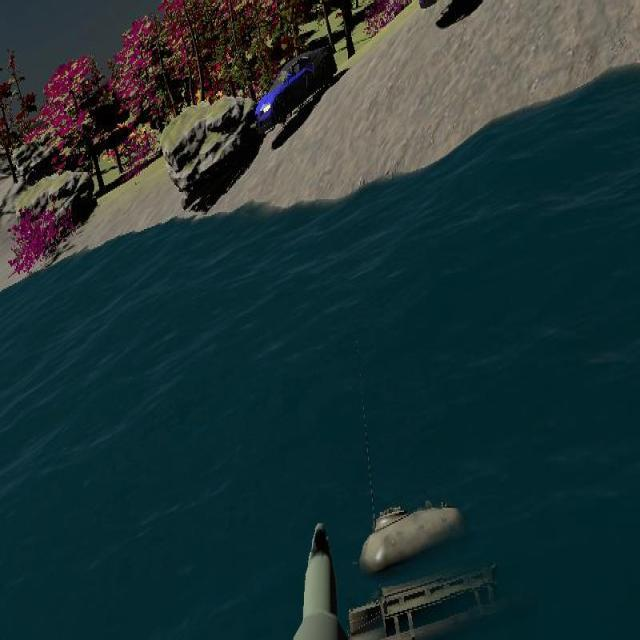car: (257, 45, 338, 132)
